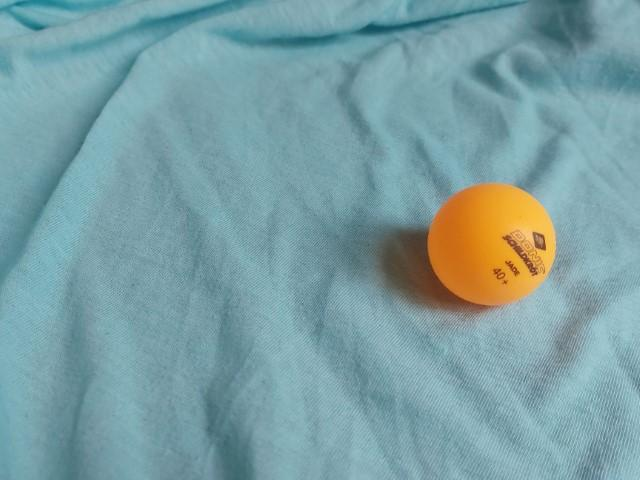oball: (418, 180, 564, 311)
